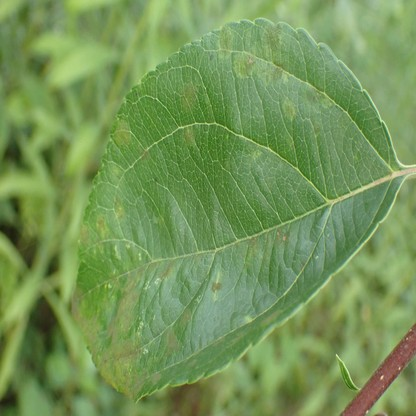scab: (95, 261, 157, 399), (82, 308, 103, 358), (261, 21, 283, 61), (225, 326, 254, 349), (233, 52, 256, 77), (260, 64, 288, 84), (180, 80, 198, 109), (244, 237, 259, 270), (94, 216, 108, 251), (218, 28, 233, 57), (115, 120, 132, 145), (159, 259, 178, 280), (310, 90, 331, 108), (163, 330, 179, 353), (72, 287, 83, 320), (78, 224, 91, 251), (259, 308, 279, 325), (283, 99, 295, 121), (111, 199, 124, 219), (274, 230, 290, 245), (111, 166, 126, 182), (179, 308, 191, 326), (185, 129, 195, 148), (152, 372, 164, 385), (311, 123, 322, 137), (252, 148, 263, 160), (212, 336, 224, 346), (212, 282, 222, 292), (140, 151, 149, 161), (188, 359, 197, 368), (300, 261, 307, 270), (245, 315, 252, 323)
